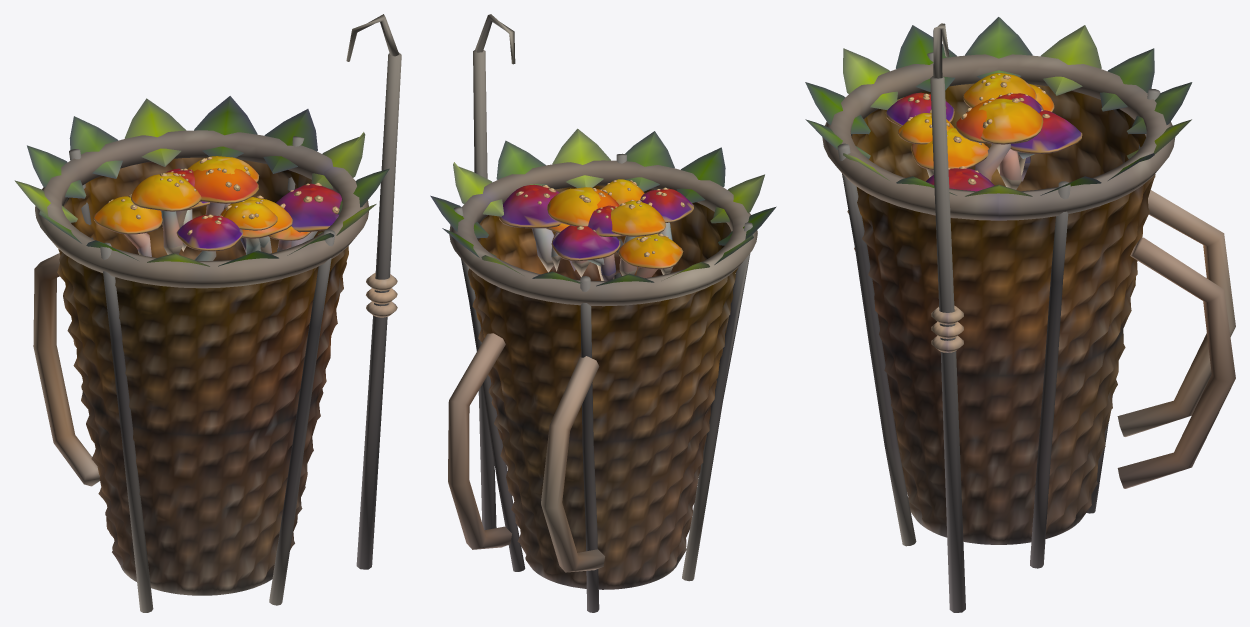
The model's file is sepet_sirt.glb.
The picture shows the model from 3 angles, left to right: view 1: azimuth 30°, elevation 25°; view 2: azimuth 150°, elevation 25°; view 3: azimuth 270°, elevation 25°; orthographic projection. The views are drawn at different scales.
Visible parts, largest first — view 1: sepet_sirt_LOD0; view 2: sepet_sirt_LOD0; view 3: sepet_sirt_LOD0.
Boxes of the visible parts, left/top/right/bottom form: sepet_sirt_LOD0: left=14, top=14, right=401, bottom=612; sepet_sirt_LOD0: left=430, top=14, right=776, bottom=612; sepet_sirt_LOD0: left=805, top=17, right=1235, bottom=612.
Size of what is drawn, in the model's own units: 0.7916 by 1.27 by 0.8425.
